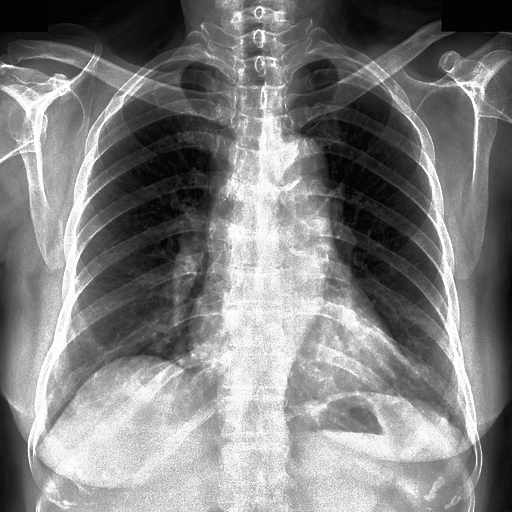Consolidation: (259, 133, 327, 201)
Nodule/Mass: (187, 324, 415, 394)
